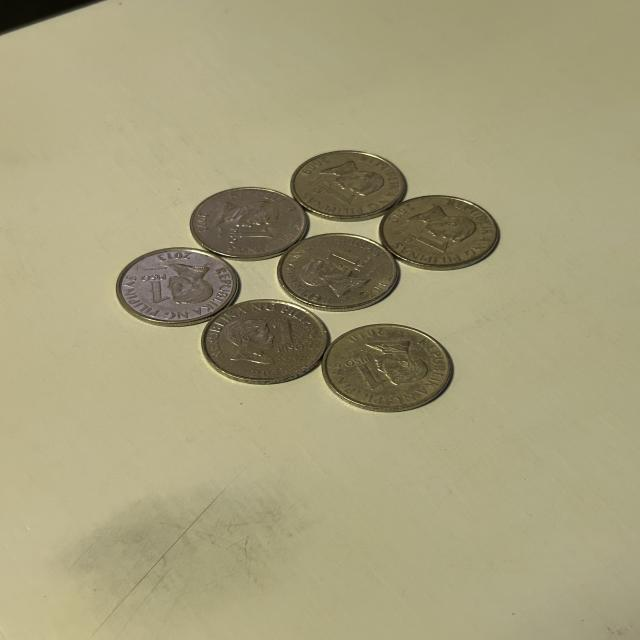1_Old_Front: (400, 222, 452, 257), (341, 355, 384, 395), (329, 246, 380, 277), (308, 182, 361, 208), (271, 316, 303, 358), (225, 224, 281, 245), (140, 272, 170, 307)
